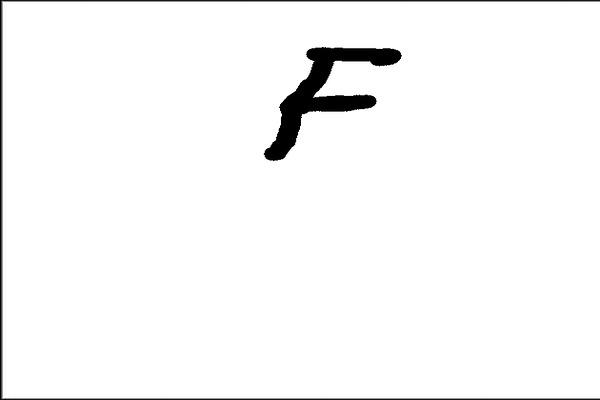F: (258, 40, 404, 163)
